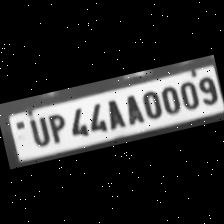0: (136, 86, 163, 122), (156, 82, 182, 116), (176, 78, 200, 112)
4: (62, 104, 90, 140), (82, 100, 108, 134)
9: (194, 72, 220, 108)
A: (101, 95, 126, 130), (119, 91, 144, 126)
P: (42, 109, 70, 145)
U: (24, 114, 51, 149)
